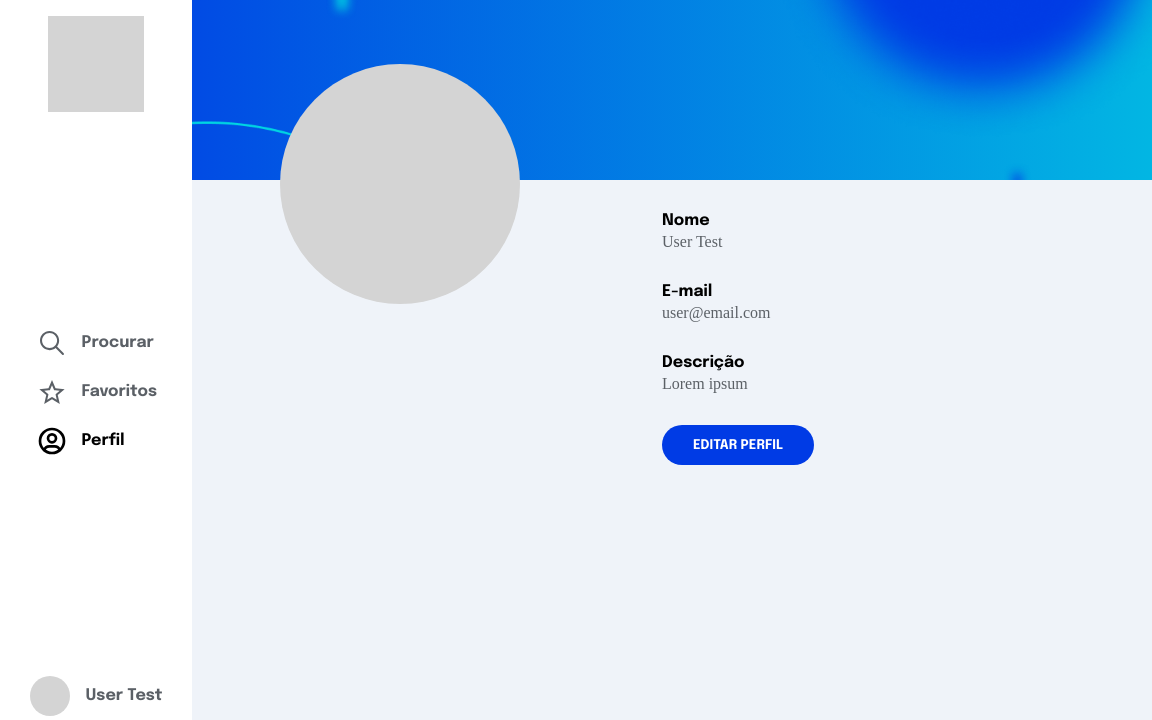
Test: Testando a exibição de perfil › Testando se ao clicar no link Editar perfil, a navegação acontece corretamente
Click the button "Editar perfil": (738, 445) [662,425,814,465]
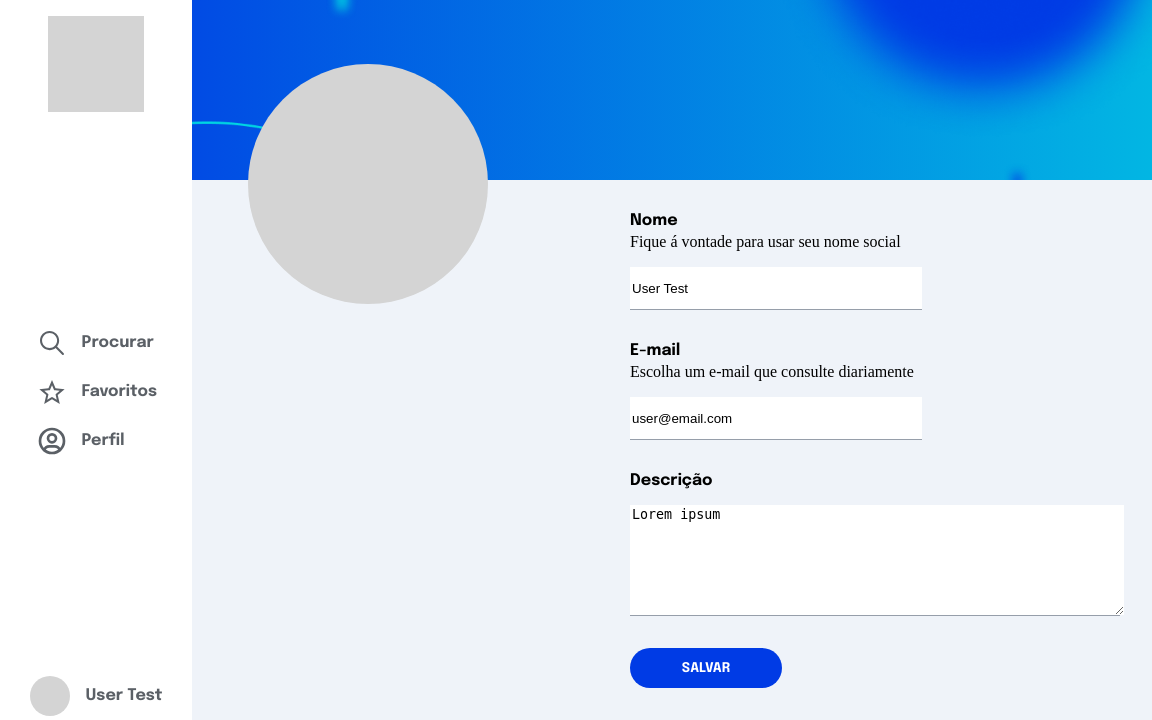
Now the element with test id "page-profile-edit" is shown
